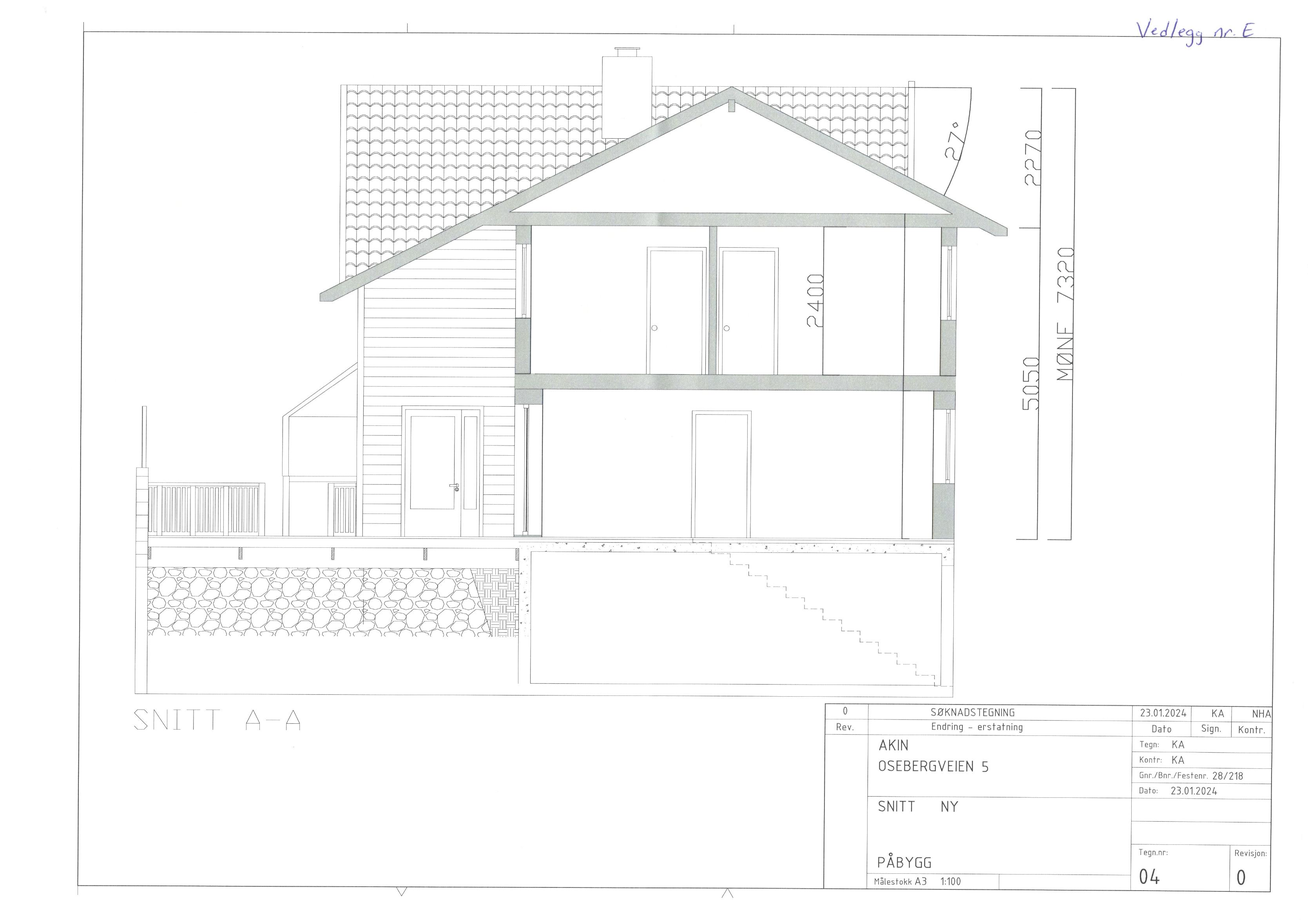snitt: (134, 46, 1007, 699)
